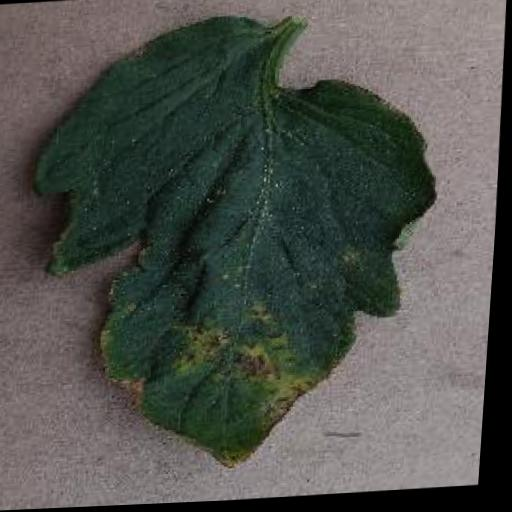Bacterial Spot: (10, 0, 468, 492)
